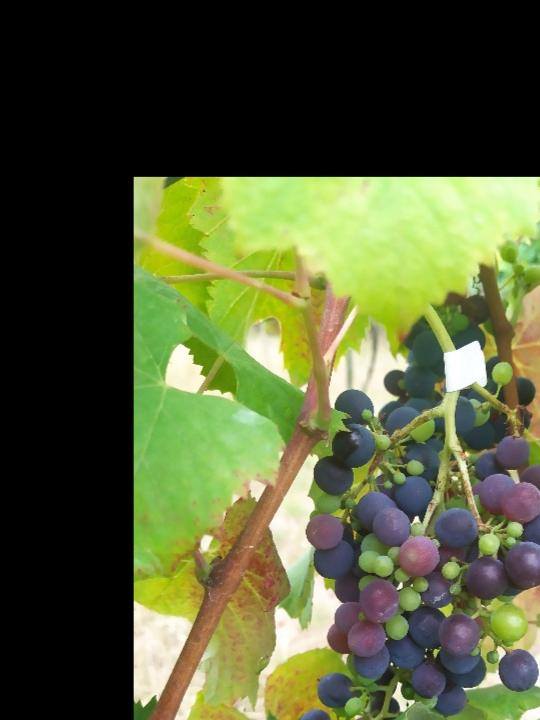grape: (296, 363, 540, 720)
